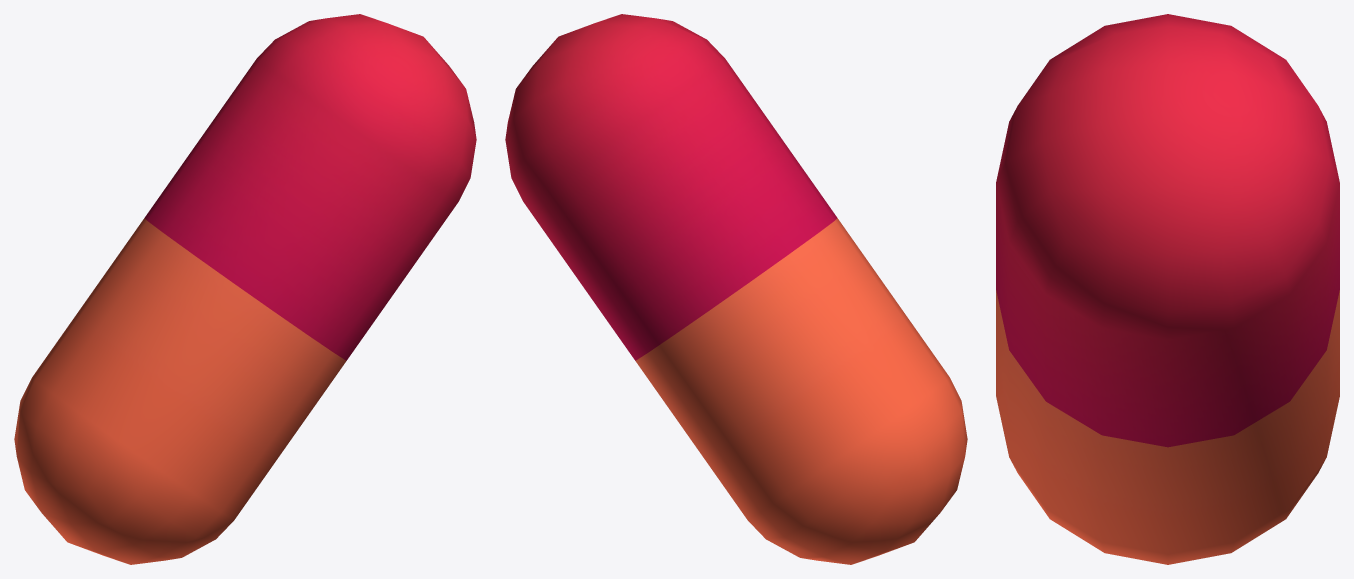
Rendered from Pill.fbx.
3 views of the same model, side by side, from view 1: azimuth 30°, elevation 25°; view 2: azimuth 150°, elevation 25°; view 3: azimuth 270°, elevation 25° (orthographic). The views are drawn at different scales.
Visible parts, largest first — view 1: Pill; view 2: Pill; view 3: Pill.
Boxes of the visible parts, <box> form: Pill: <box>14,14,476,564</box>; Pill: <box>505,14,967,564</box>; Pill: <box>996,14,1339,564</box>.
Bounding box in the file's own units: 58.64 × 62.19 × 29.37.
